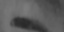RightEyeFatigue: (4, 5, 56, 32)
